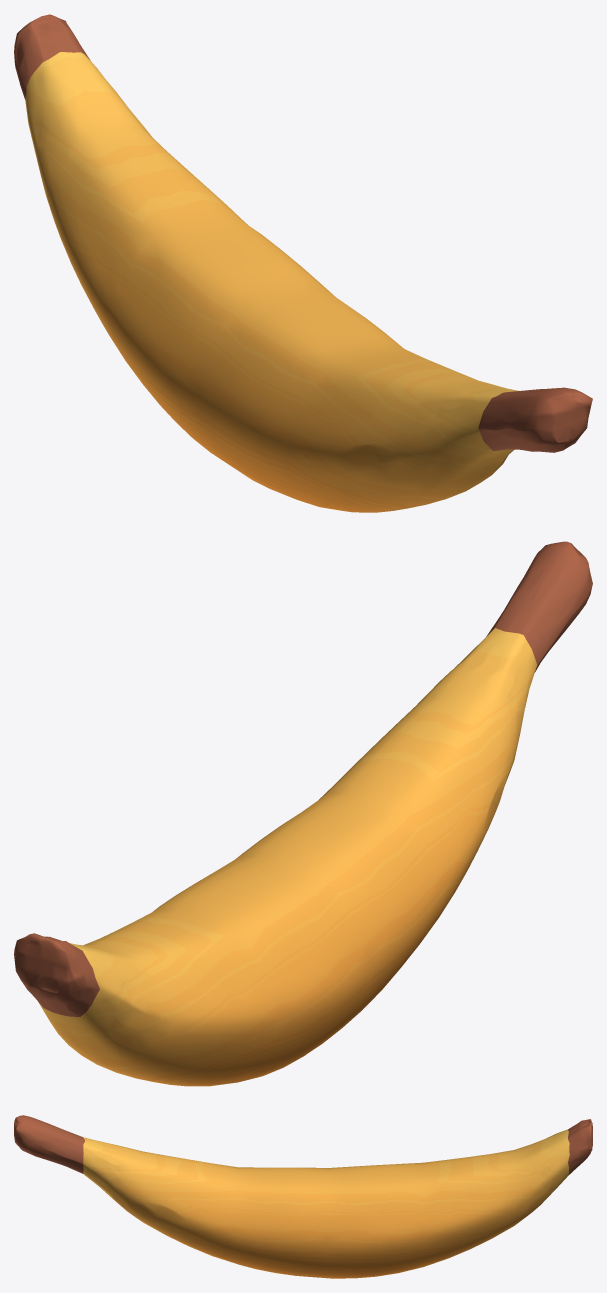
Rendered from banana.glb.
3 views of the same model, one above another, from view 1: azimuth 30°, elevation 25°; view 2: azimuth 150°, elevation 25°; view 3: azimuth 270°, elevation 25° (orthographic). The views are drawn at different scales.
Size of the model in its own units: 0.1929 by 0.2973 by 1.
Materials: 1 (1 with a texture image).
